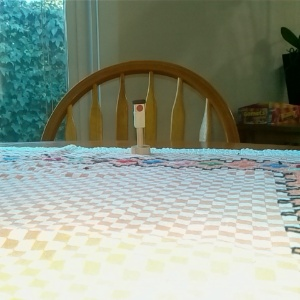traffic light red: (129, 97, 151, 157)
